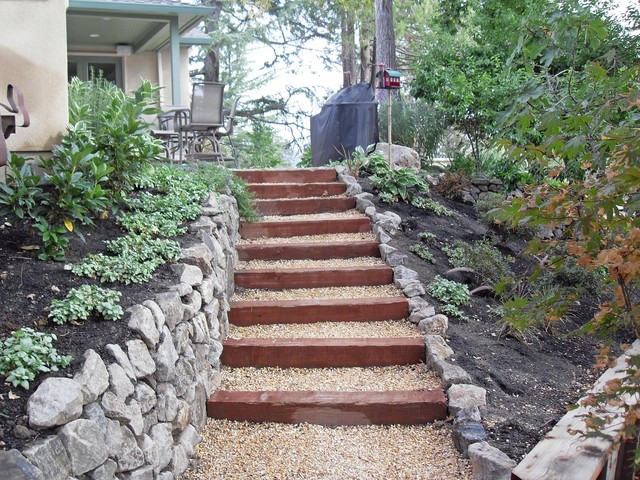upstairs: (244, 211, 368, 441)
